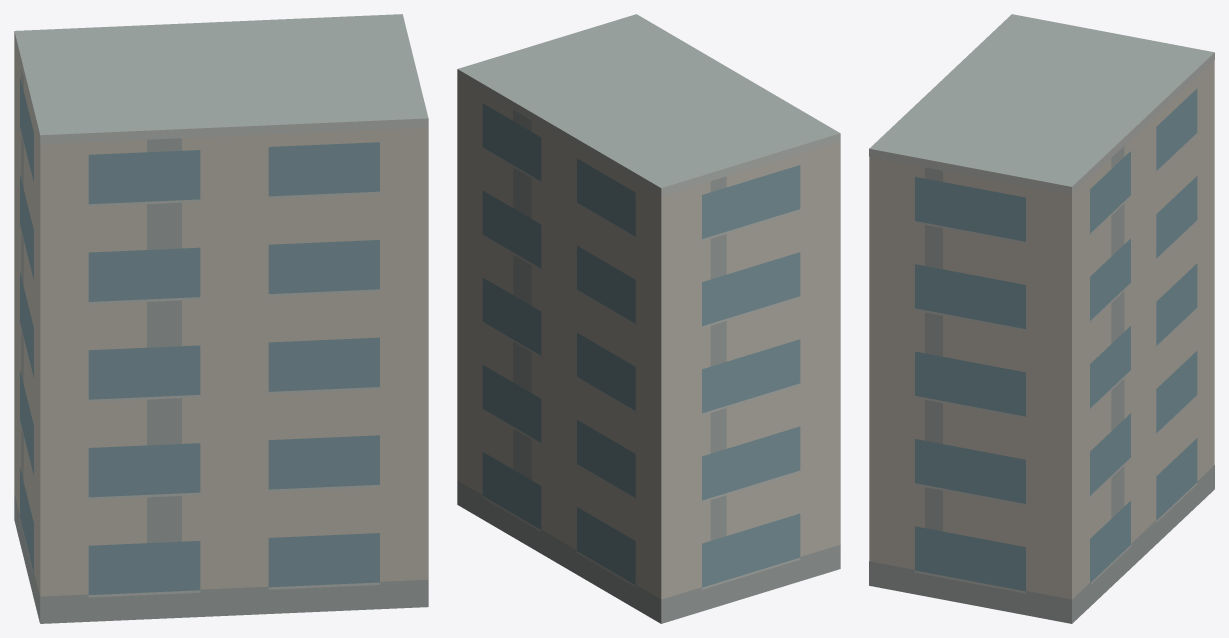
The model's file is survey-upis-32531091.glb.
The picture shows the model from 3 angles, left to right: view 1: azimuth 30°, elevation 25°; view 2: azimuth 150°, elevation 25°; view 3: azimuth 270°, elevation 25°; orthographic projection. The views are drawn at different scales.
Parts seen in each view (by area): view 1: survey-upis-32531091.tmp; view 2: survey-upis-32531091.tmp; view 3: survey-upis-32531091.tmp.
Boxes of the visible parts, x1,y1,x2,y2 form: survey-upis-32531091.tmp: [14, 14, 428, 623]; survey-upis-32531091.tmp: [457, 14, 840, 623]; survey-upis-32531091.tmp: [869, 14, 1214, 623].
Size of the model in its own units: 11.12 by 13.1 by 9.4.
